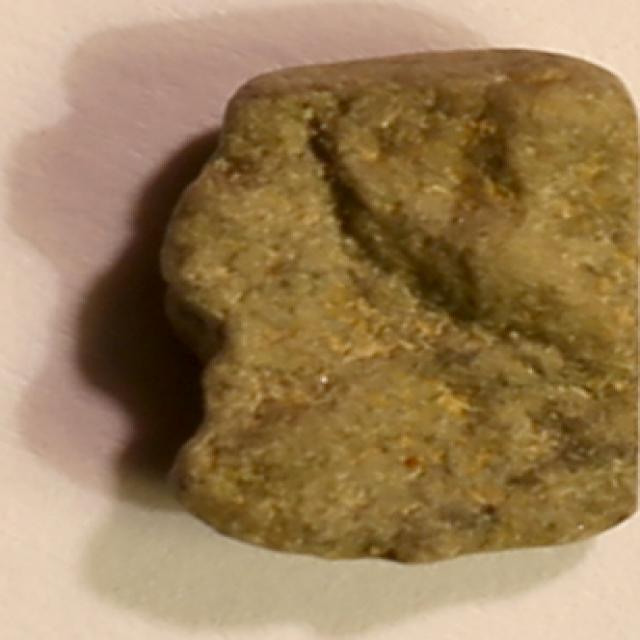stone: (154, 42, 640, 562)
